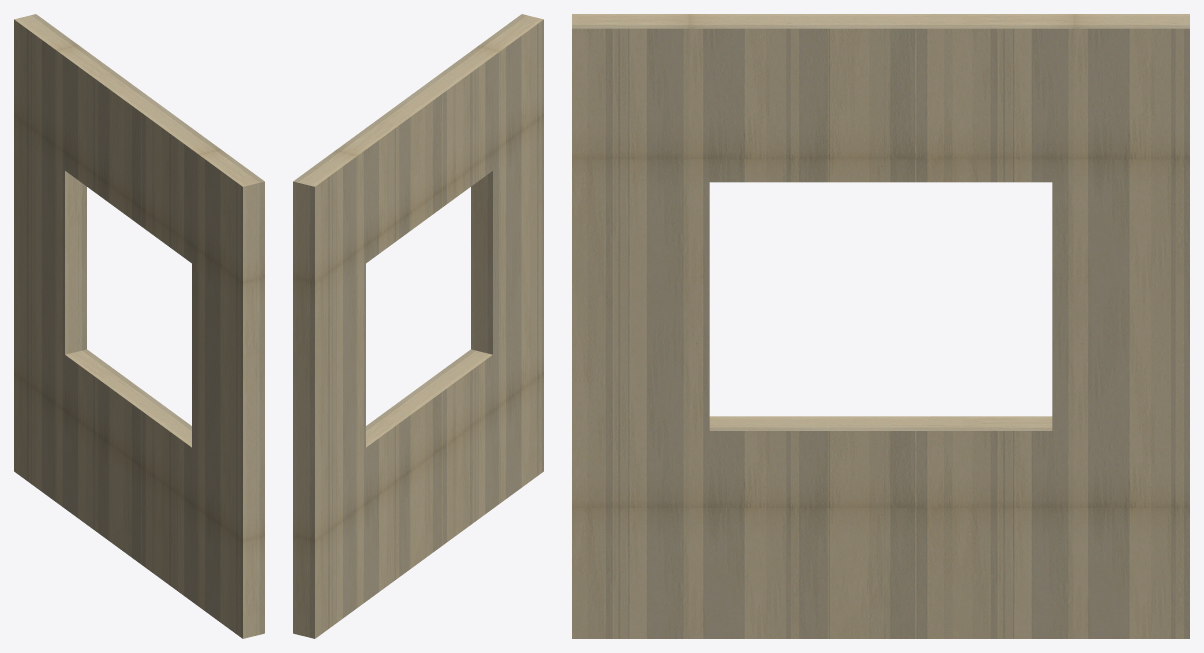
The model's file is soupwindwall032.glb.
The picture shows the model from 3 angles, left to right: view 1: azimuth 30°, elevation 25°; view 2: azimuth 150°, elevation 25°; view 3: azimuth 270°, elevation 25°; orthographic projection. The views are drawn at different scales.
Visible parts, largest first — view 1: soupwindwall032_high_1; view 2: soupwindwall032_high_1; view 3: soupwindwall032_high_1.
Part boxes in pixels (left/top/right/bottom): soupwindwall032_high_1: left=14, top=14, right=264, bottom=638; soupwindwall032_high_1: left=293, top=14, right=543, bottom=638; soupwindwall032_high_1: left=572, top=14, right=1189, bottom=638.
Size of the model in its own units: 0.1504 by 2.95 by 2.7.
Materials: 1 (1 with a texture image).
